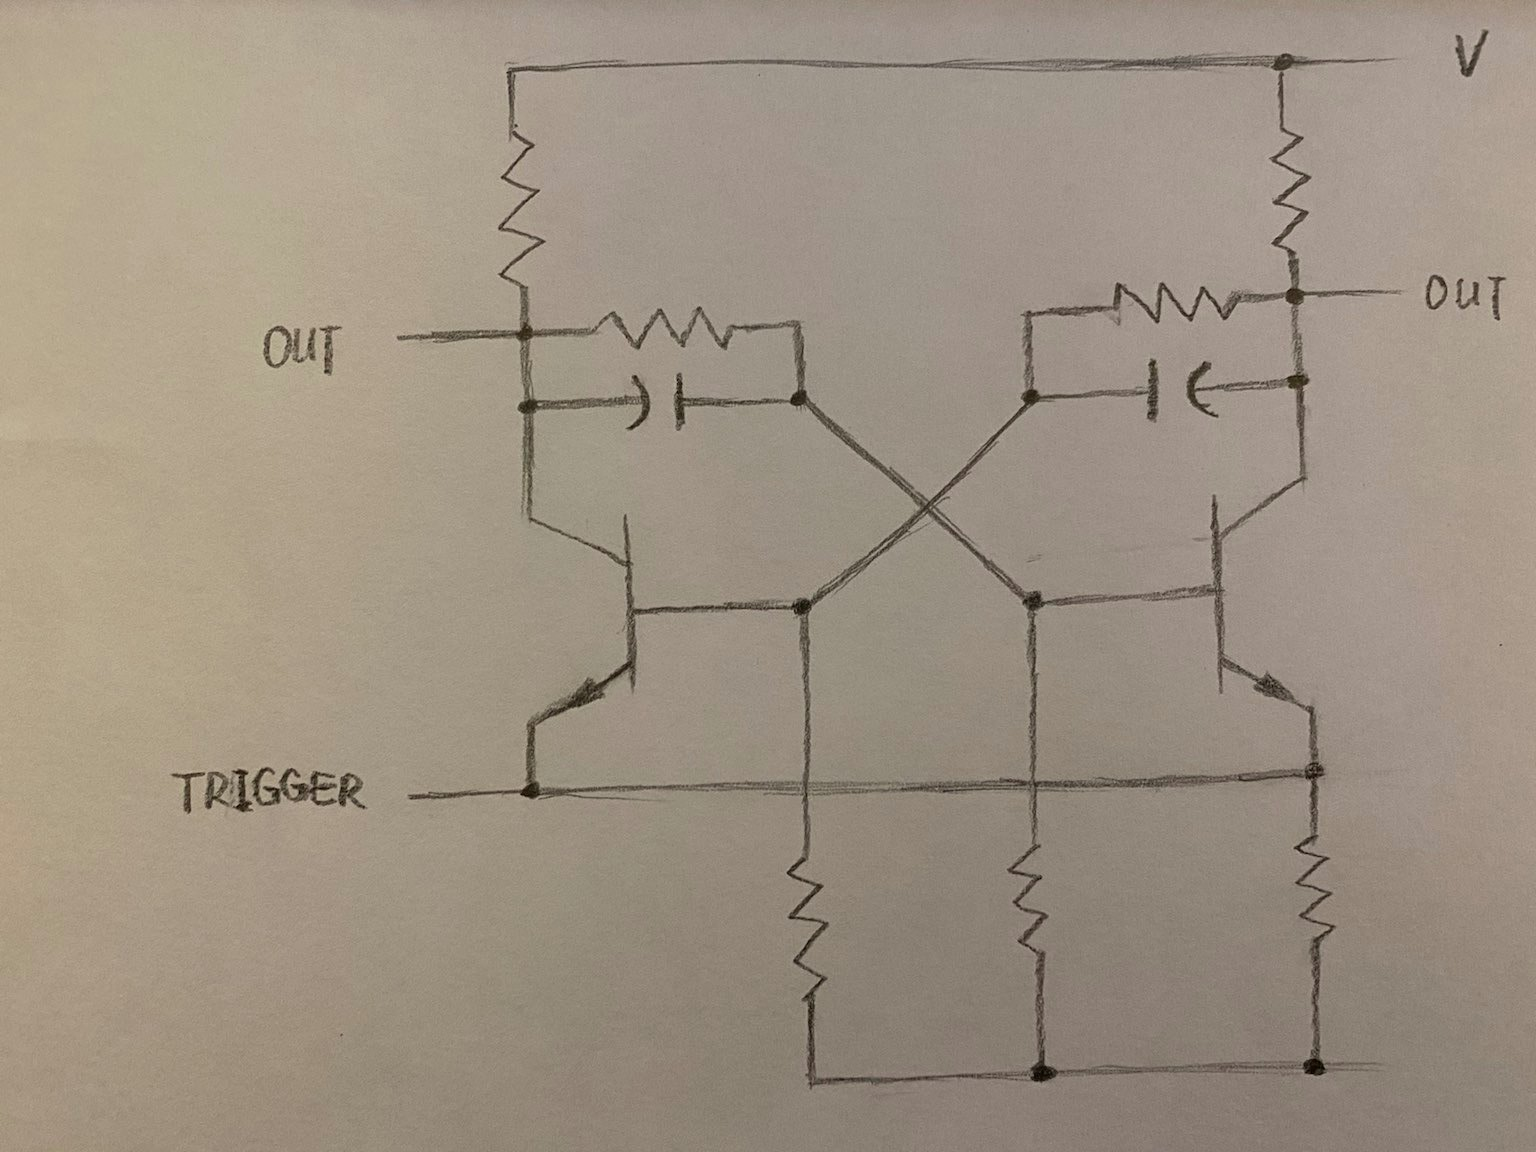capacitor.unpolarized: (1130, 352, 1237, 433), (612, 363, 708, 439)
crossover: (888, 467, 969, 538), (1005, 753, 1066, 813), (781, 759, 837, 822)
junction: (1007, 1039, 1081, 1104), (998, 572, 1058, 630), (500, 764, 564, 818), (779, 576, 836, 630), (1283, 741, 1339, 795), (1001, 371, 1059, 420), (506, 384, 562, 431), (1261, 39, 1311, 90), (790, 1060, 845, 1104), (1290, 1037, 1335, 1090), (1272, 270, 1320, 317), (1274, 358, 1321, 403), (778, 374, 825, 417), (490, 45, 535, 88), (1007, 293, 1053, 334), (503, 307, 545, 349), (774, 304, 816, 344)
resistor: (781, 852, 847, 1008), (579, 300, 745, 355), (1007, 835, 1072, 966), (1091, 276, 1245, 330), (1290, 826, 1349, 963), (500, 123, 545, 294), (1263, 119, 1317, 260)
terminal: (375, 305, 451, 361), (1349, 1046, 1416, 1082), (395, 778, 463, 811), (1355, 44, 1426, 74), (1361, 273, 1419, 307)
text: (167, 756, 373, 819), (1421, 264, 1515, 326), (258, 318, 345, 382), (1451, 22, 1495, 81)
transistor: (504, 494, 663, 738), (1193, 470, 1340, 724)
